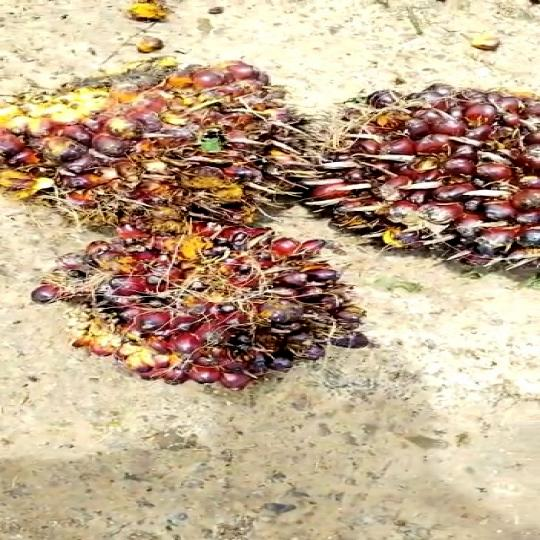masak: (0, 56, 319, 242), (287, 64, 540, 277), (42, 223, 363, 382)
